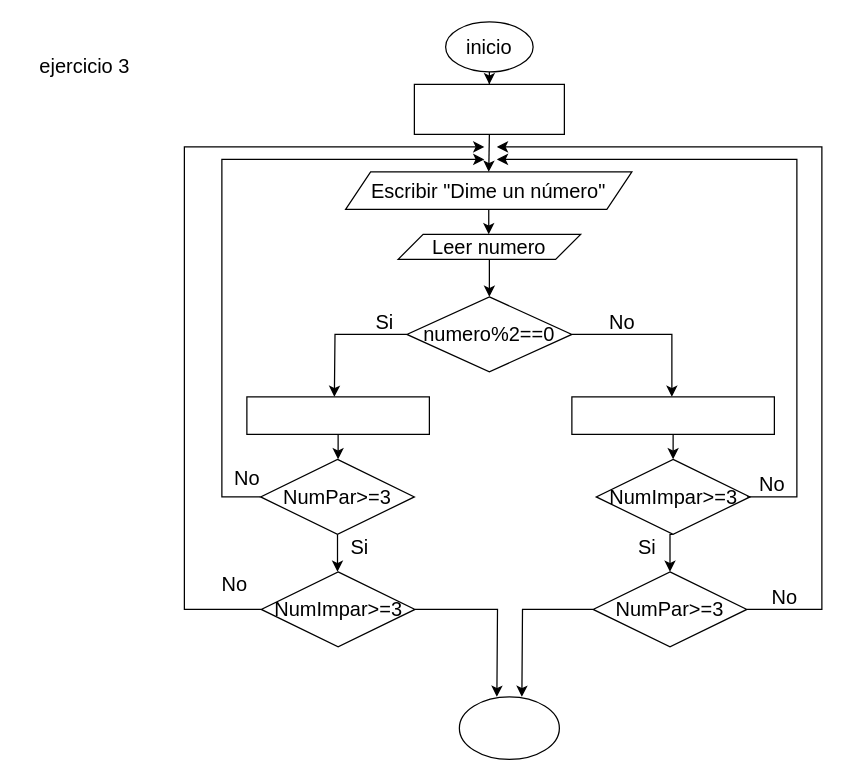
Image size: 854x781. Some labels were removed from this diagram. The box of each missing label's shape, as (x1, y1, x2, y2) in pixels:
Fin: (458, 696, 559, 759)
NumImp=0 NumPar=0: (413, 83, 564, 134)
NumImp=NumImp+1: (571, 396, 774, 434)
NumPar=NumPar+1: (246, 396, 429, 434)
